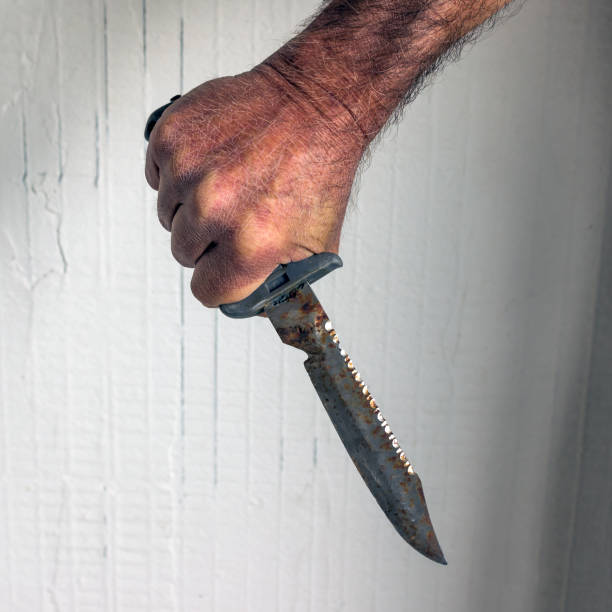knife: (137, 87, 457, 568)
